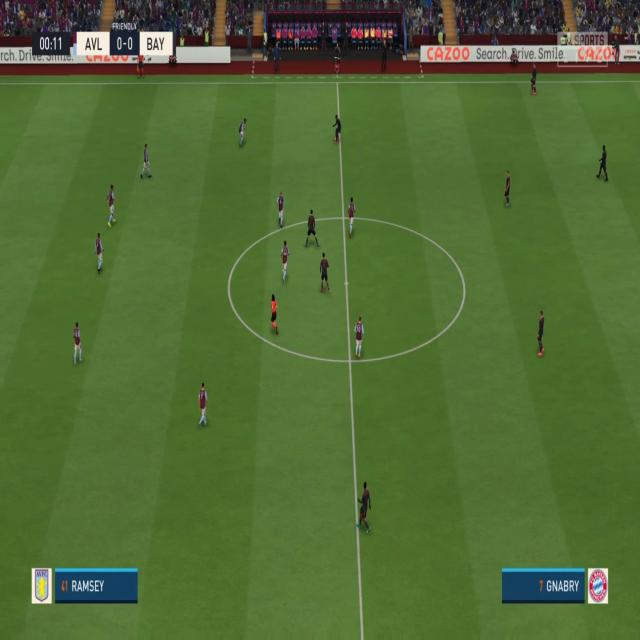Ball: (334, 136, 338, 142)
Referee: (270, 296, 278, 333)
Team-A: (358, 481, 374, 534), (306, 209, 320, 251), (537, 308, 548, 356), (318, 254, 329, 294), (596, 145, 608, 181), (504, 172, 513, 208), (333, 115, 342, 144), (529, 68, 538, 96)
Team-H: (197, 383, 209, 427), (72, 322, 84, 365), (107, 184, 119, 227), (357, 315, 368, 358), (280, 240, 290, 285), (346, 198, 356, 240), (95, 233, 104, 273), (276, 192, 286, 227), (238, 118, 248, 149), (141, 145, 150, 179)
